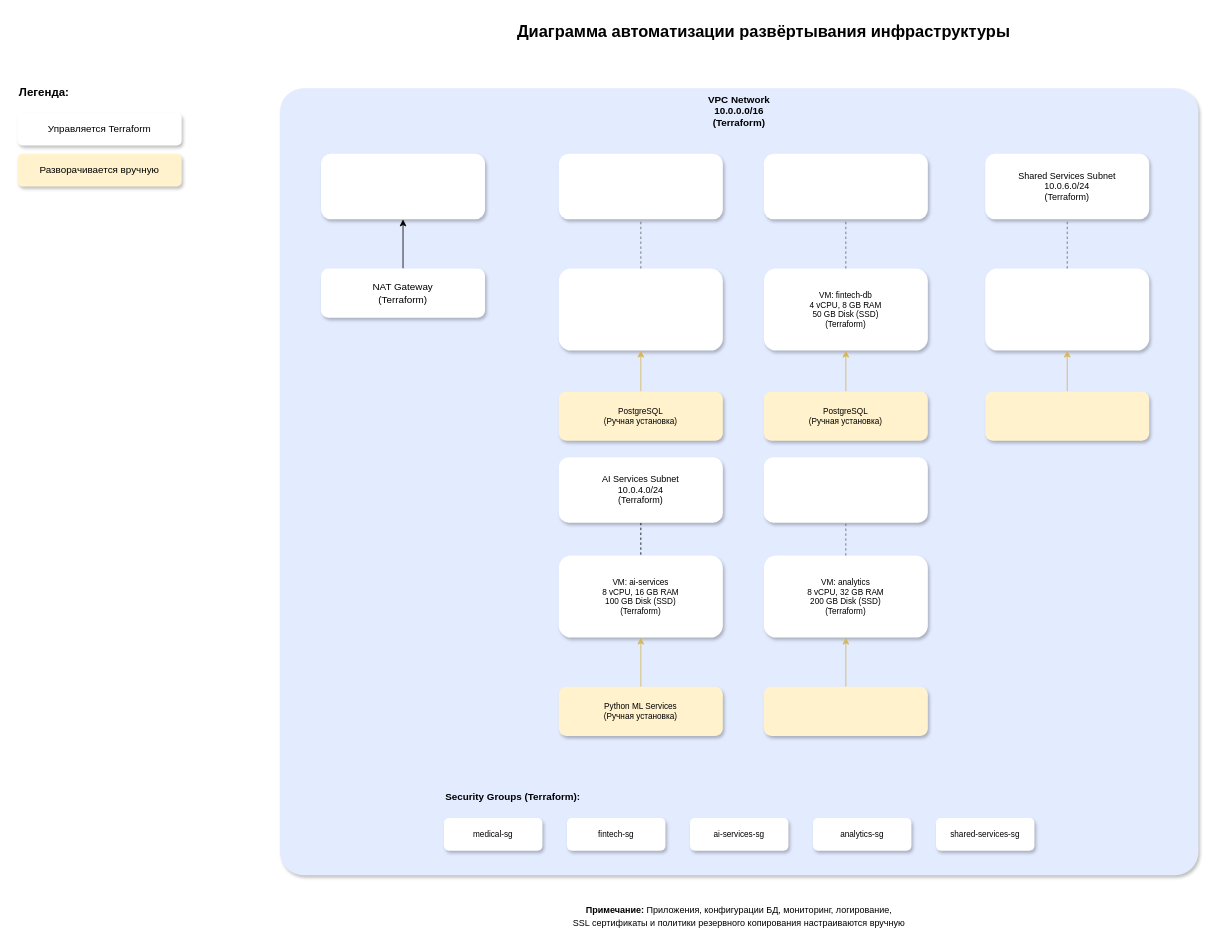
Image size: 1217x946. Some labels were removed from this diagram. The shapes that lost their labels are listed below. From the top down, each one's centre as x and y in pixels, then its label:
At [403,187]: "Public Subnet 10.0.1.0/24 (Terraform)".
At [641,187]: "Medical Subnet 10.0.2.0/24 (Terraform)".
At [846,187]: "Fintech Subnet 10.0.3.0/24 (Terraform)".
At [641,310]: "VM: medical-db 4 vCPU, 8 GB RAM 50 GB Disk (SSD) (Terraform)".
At [1068,310]: "VM: shared-services 2 vCPU, 4 GB RAM 30 GB Disk (SSD) (Terraform)".
At [1068,417]: "API Gateway Identity Provider (Ручная установка)".
At [846,490]: "Analytics Subnet 10.0.5.0/24 (Terraform)".
At [846,712]: "Data Warehouse Analytics Engine (Ручная установка)".
